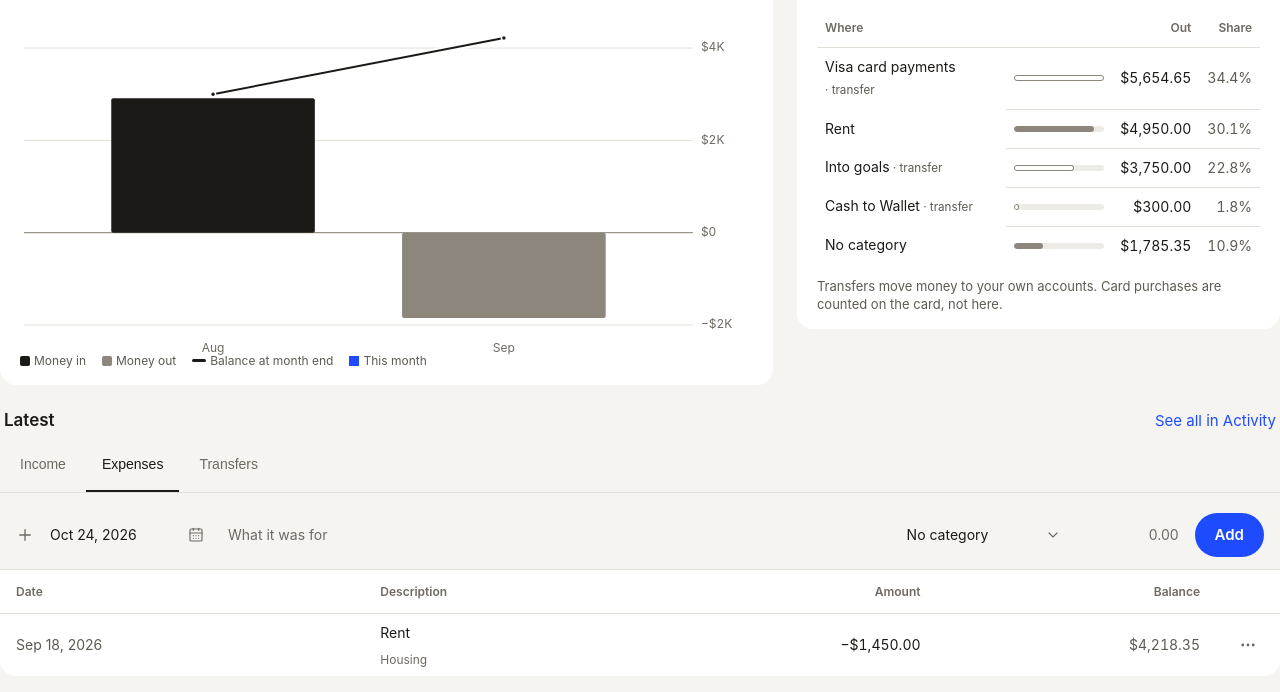
Test: AccountDetailPage › editing in place, like a spreadsheet › saves an amount typed into its cell, in integer minor units
(page scrolled)
Click the button named "Amount, 1450.00. Edit" at (881, 646), box [832, 630, 929, 660]
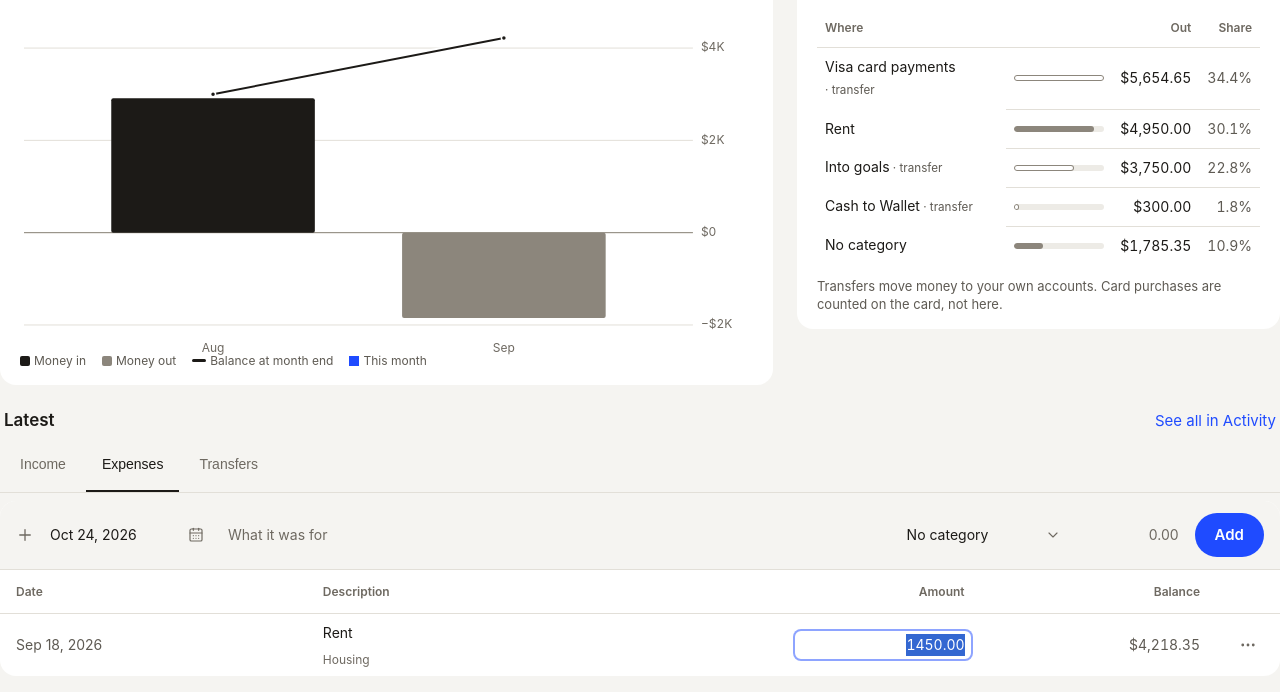
Now the field named "Amount" holds "1450.00"
Replace the text in the field named "Amount" with "1,500.25" at (883, 646), box [793, 630, 973, 662]
Then press Enter
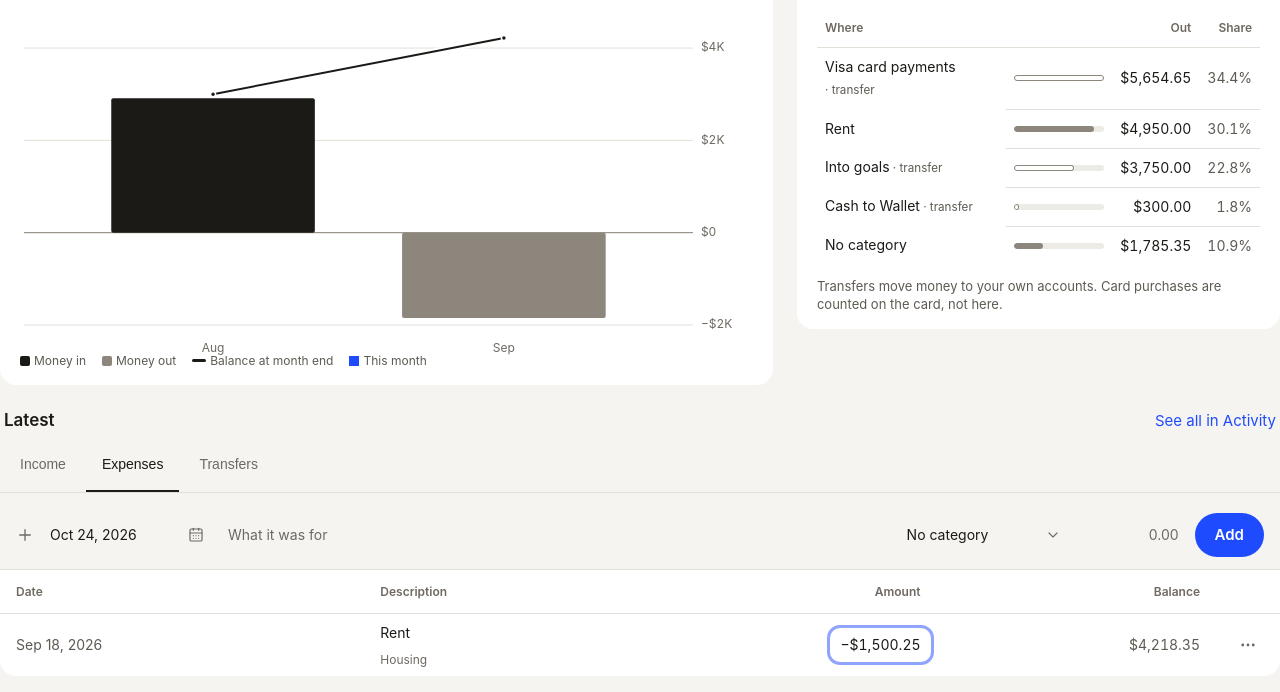
Now the text "−$1,500.25" is shown, box [840, 636, 921, 654]
